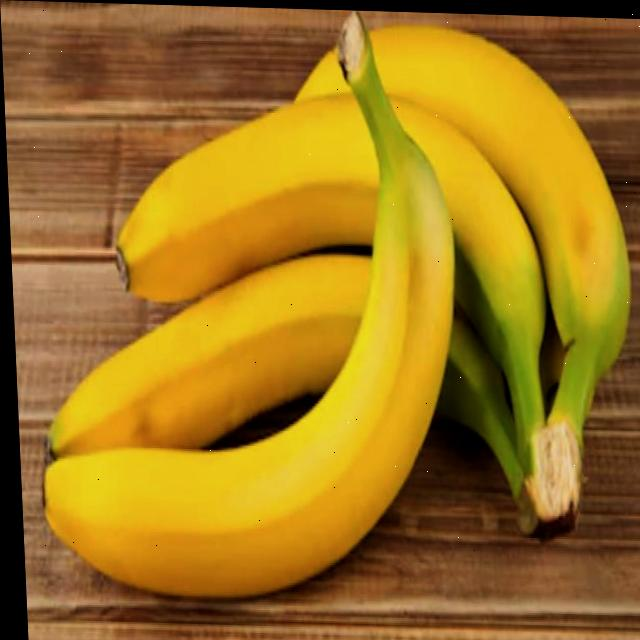banana: (26, 34, 469, 607), (134, 26, 627, 523)
